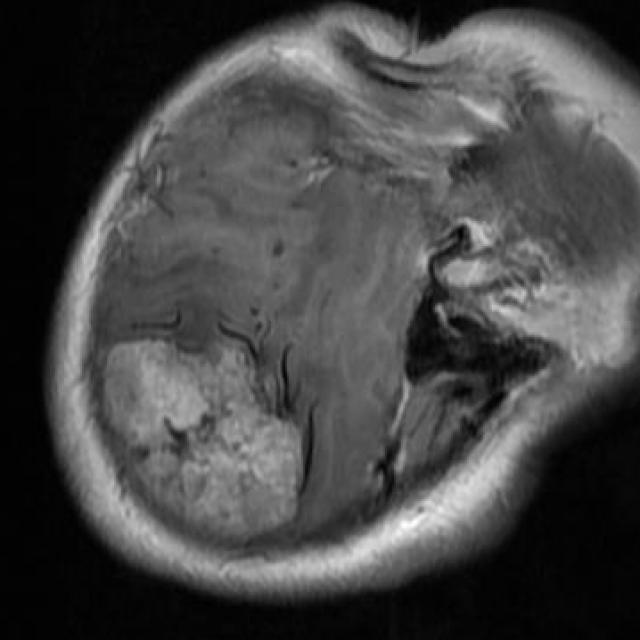meningioma: (103, 339, 303, 537)
